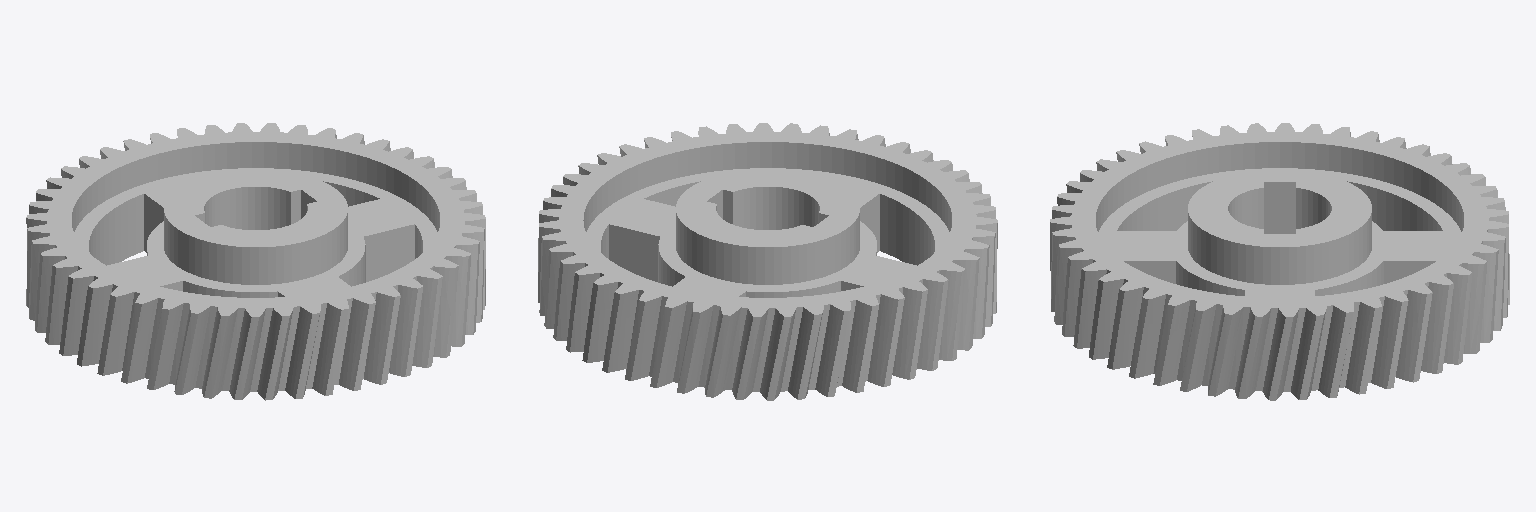
File: N4-004_pc_gfx.obj
3 views of the same model, side by side, from view 1: azimuth 30°, elevation 25°; view 2: azimuth 150°, elevation 25°; view 3: azimuth 270°, elevation 25° (orthographic).
Parts seen in each view (by area): view 1: N4-004; view 2: N4-004; view 3: N4-004.
Boxes of the visible parts, x1,y1,x2,y2 form: N4-004: [26, 123, 485, 400]; N4-004: [538, 123, 997, 400]; N4-004: [1050, 123, 1509, 400].
Bounding box in the file's own units: 0.8062 × 0.1843 × 0.8063.